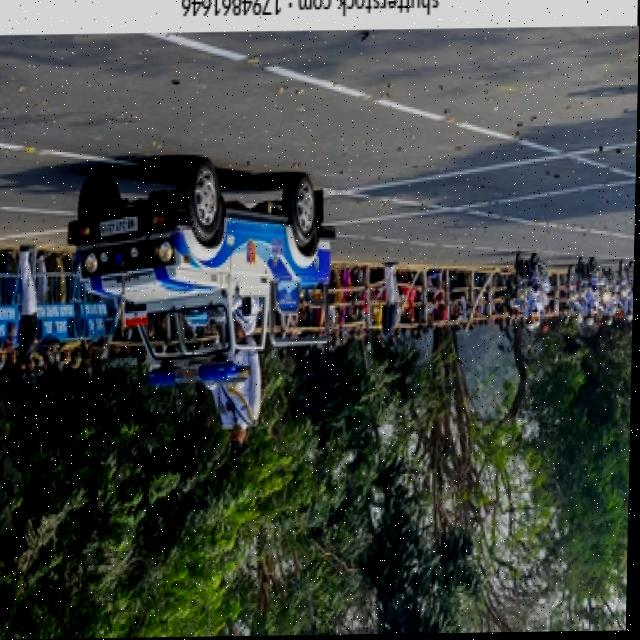plate: (97, 212, 142, 241)
